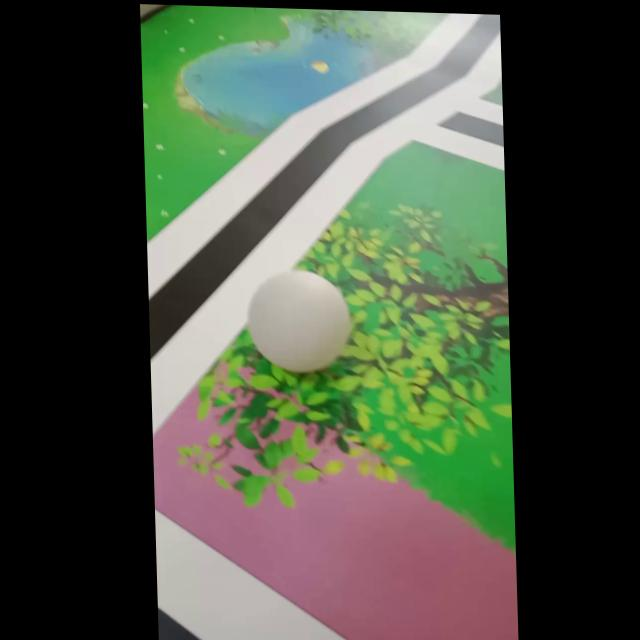white ball: (245, 267, 354, 375)
